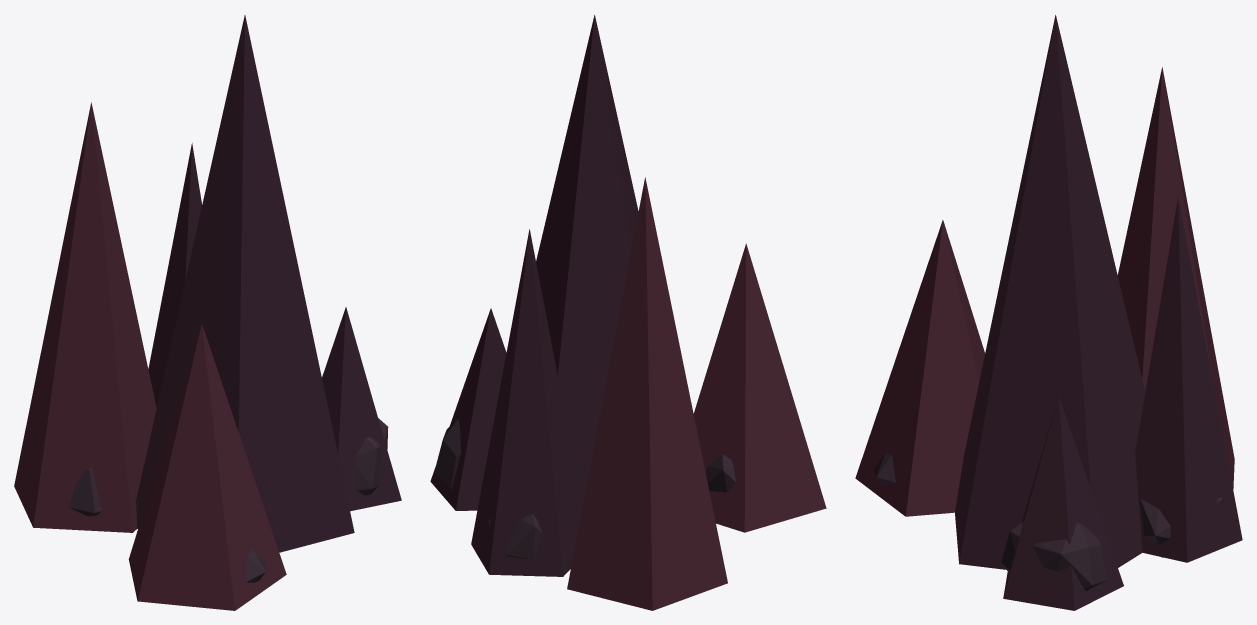
The model's file is FSA_ENV_Arena_Spikes_02.glb.
3 views of the same model, side by side, from view 1: azimuth 30°, elevation 25°; view 2: azimuth 150°, elevation 25°; view 3: azimuth 270°, elevation 25° (orthographic). The views are drawn at different scales.
Parts seen in each view (by area): view 1: Spike_0, Spike_1, Spike_3, Spike_2, Spike_4, Basalt_2, Basalt_1, Basalt_3; view 2: Spike_1, Spike_0, Spike_4, Spike_3, Spike_2, Basalt_4, Basalt_2, Basalt_3; view 3: Spike_0, Spike_4, Spike_3, Spike_1, Spike_2, Basalt_2, Basalt_4.
Part boxes in pixels (x1,y1,x2,y2): Spike_0: [136, 15, 354, 552]; Spike_1: [14, 102, 156, 532]; Spike_3: [128, 323, 286, 610]; Spike_2: [322, 307, 401, 511]; Spike_4: [148, 143, 201, 407]; Basalt_2: [355, 418, 388, 495]; Basalt_1: [69, 468, 101, 516]; Basalt_3: [245, 549, 266, 582]; Spike_1: [567, 177, 727, 610]; Spike_0: [536, 15, 638, 512]; Spike_4: [471, 229, 581, 576]; Spike_3: [693, 243, 826, 532]; Spike_2: [430, 308, 506, 510]; Basalt_4: [488, 514, 542, 559]; Basalt_2: [434, 419, 460, 489]; Basalt_3: [705, 454, 735, 492]; Spike_0: [955, 15, 1145, 569]; Spike_4: [1135, 197, 1242, 562]; Spike_3: [855, 220, 984, 516]; Spike_1: [1117, 67, 1234, 489]; Spike_2: [1003, 396, 1123, 610]; Basalt_2: [1001, 522, 1106, 590]; Basalt_4: [1140, 497, 1223, 557].
Size of what is drawn, in the model's own units: 1.99 by 2.93 by 1.96.
